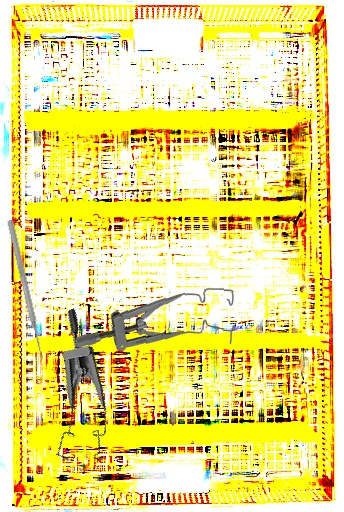Pusher: (5, 219, 47, 362)
Speculum: (6, 307, 136, 475), (75, 280, 237, 358)
